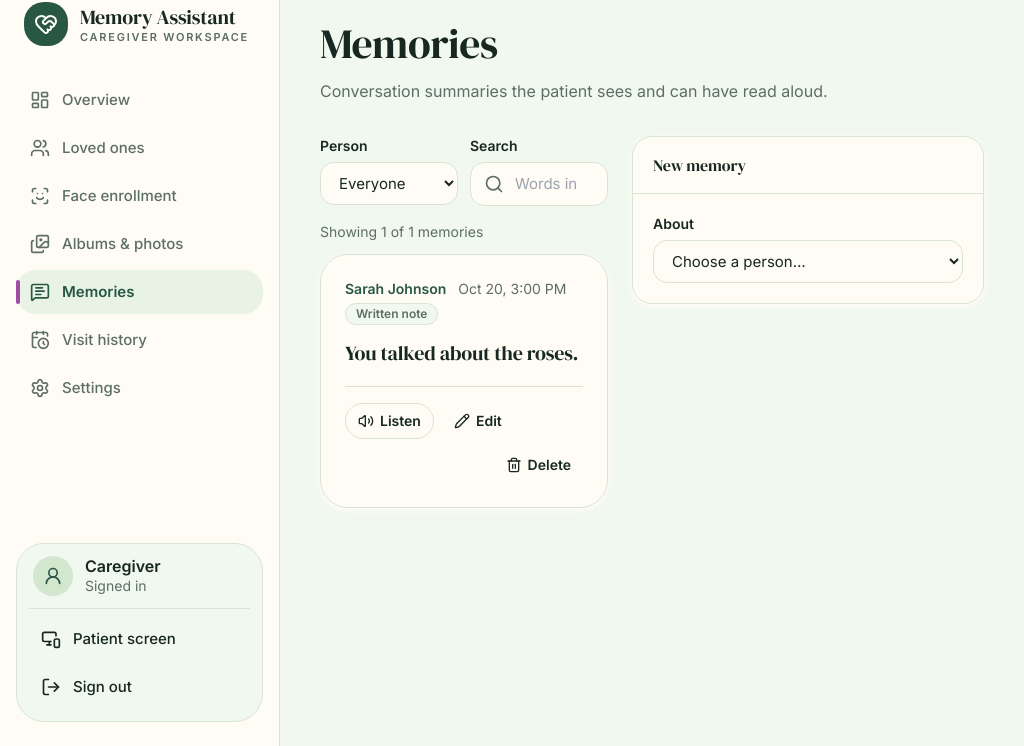
Test: memories › adds a memory for the chosen person and deletes after confirmation
Check: the text "You talked about the roses." is shown, box [345,338,583,370]
Select "Sarah Johnson" in the dropdown labelled "About" at (808, 262), box [653,240,963,283]
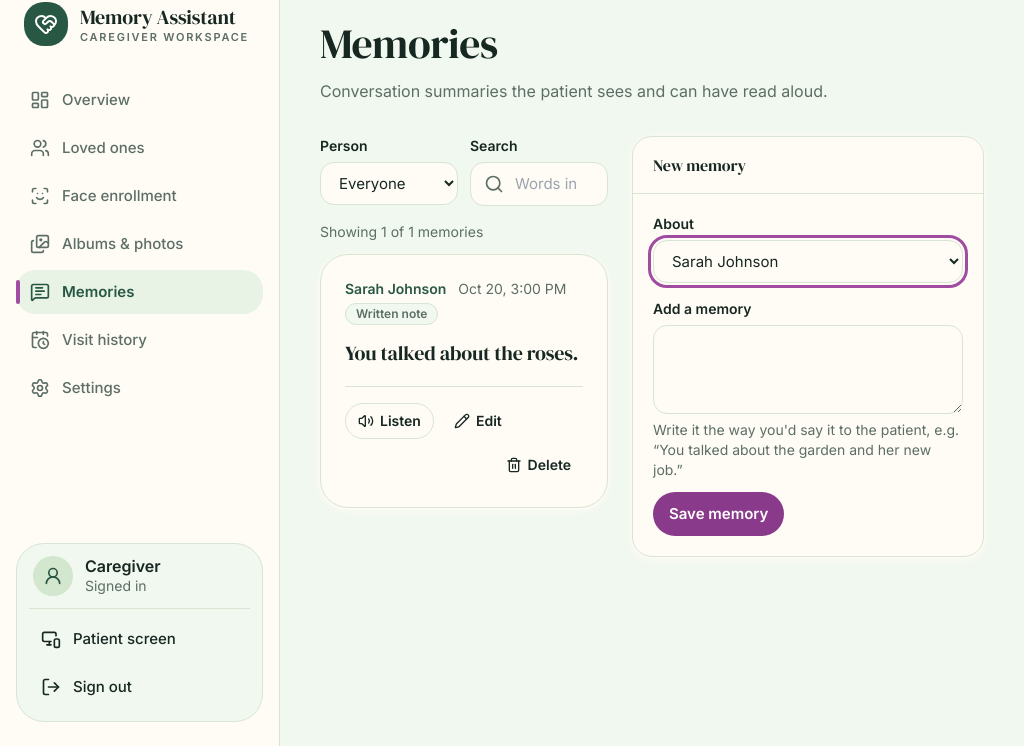
Type "You baked bread together." into the text box labelled "Add a memory".
click(808, 370); type("You baked bread together.")  # box [653,325,963,414]
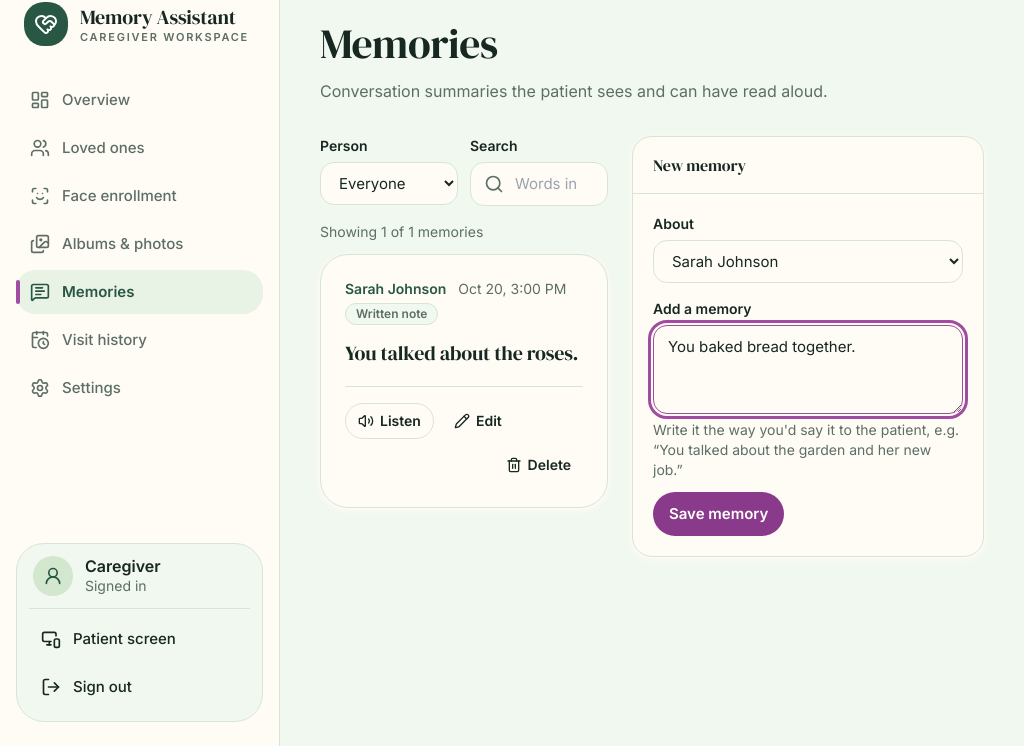
Click the button "Save memory".
click(719, 514)  # box [653,492,784,536]
(page scrolled)
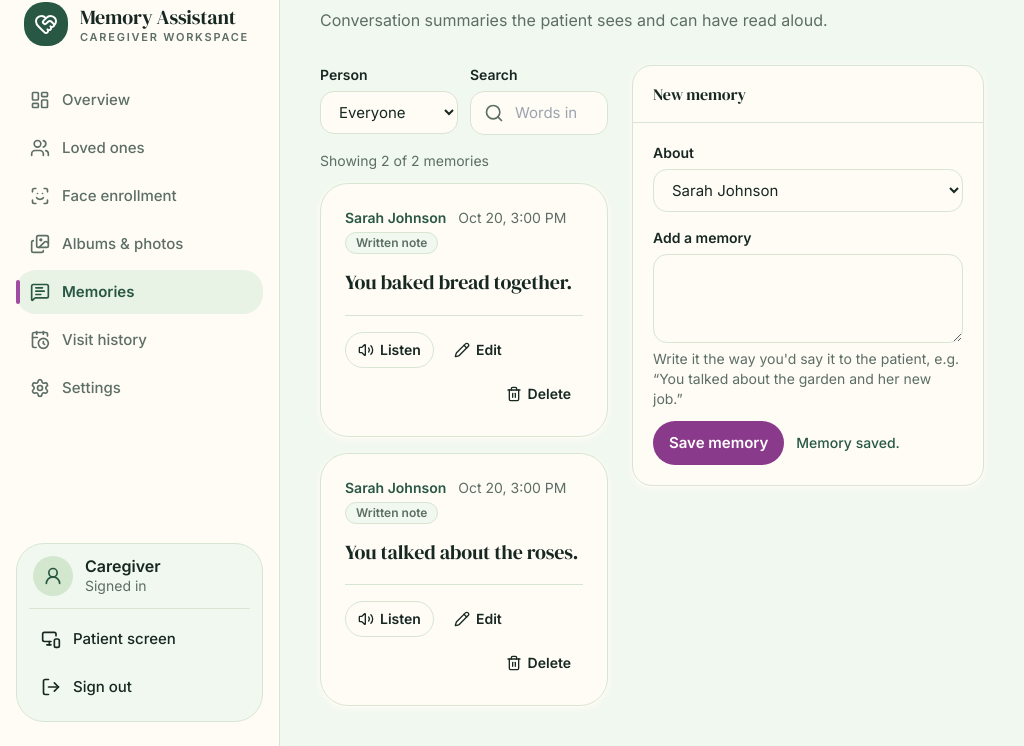
Check: the text "You baked bread together." is shown, box [345,266,583,299]
Click the button "Delete" below "You talked about the roses.".
click(538, 664)  # box [494,646,583,682]
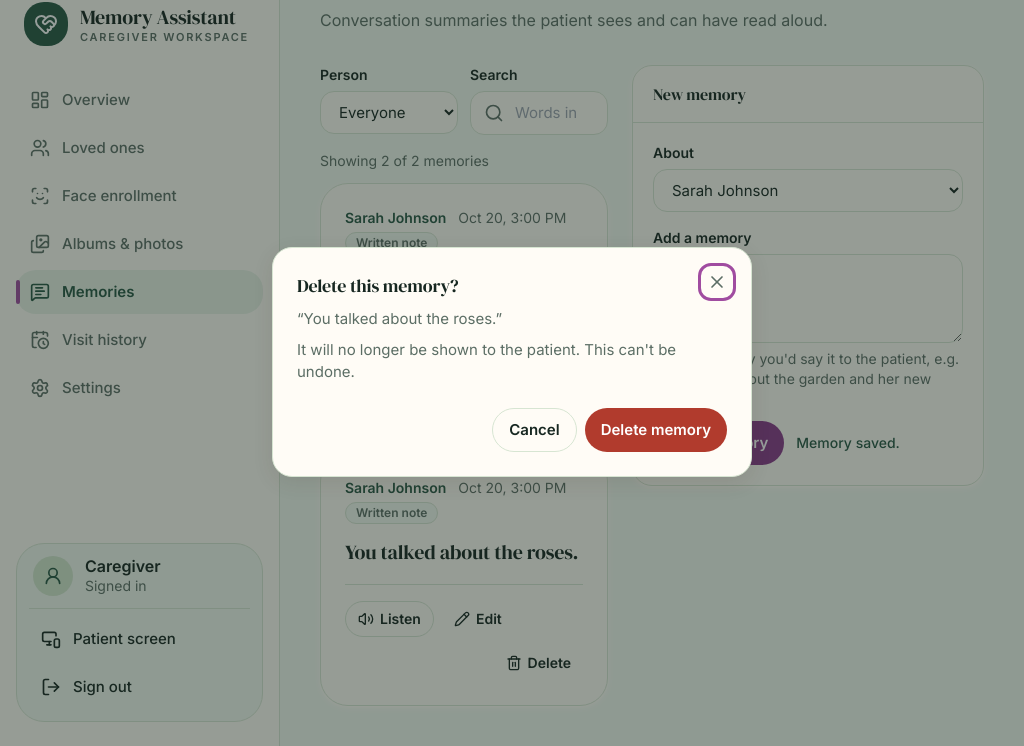
Click the button "Delete memory".
click(656, 430)  # box [585,408,727,452]
(page scrolled)
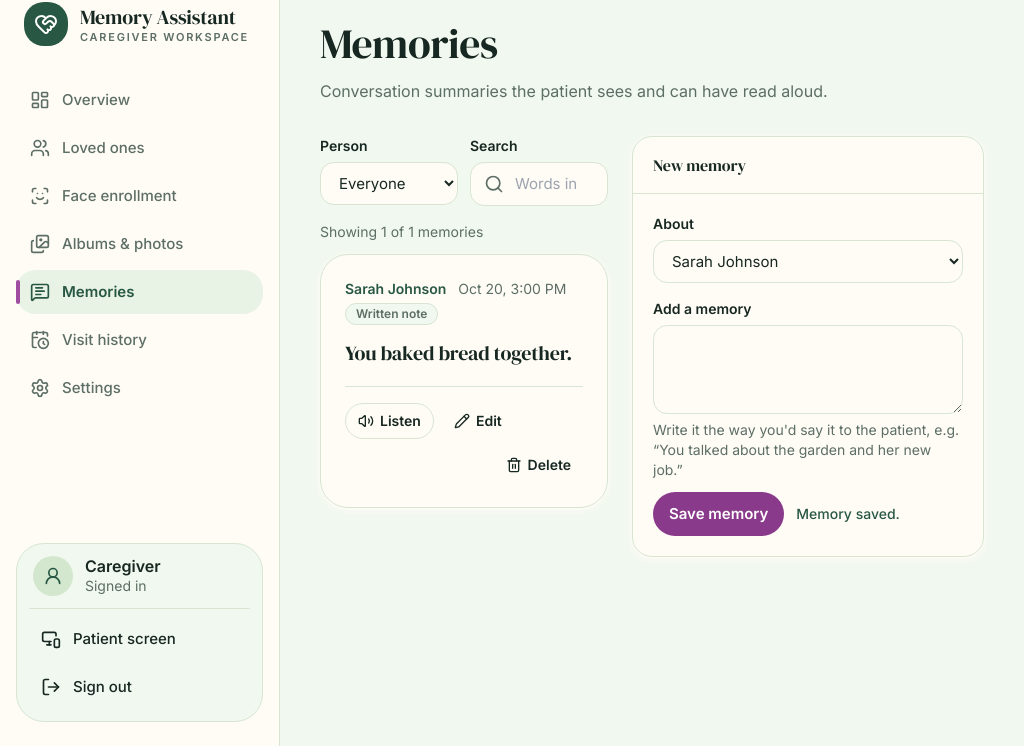
Check: the text "You talked about the roses." is gone
